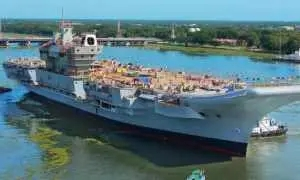Cargoship: (5, 18, 300, 157)
otherboat: (250, 112, 289, 141)
